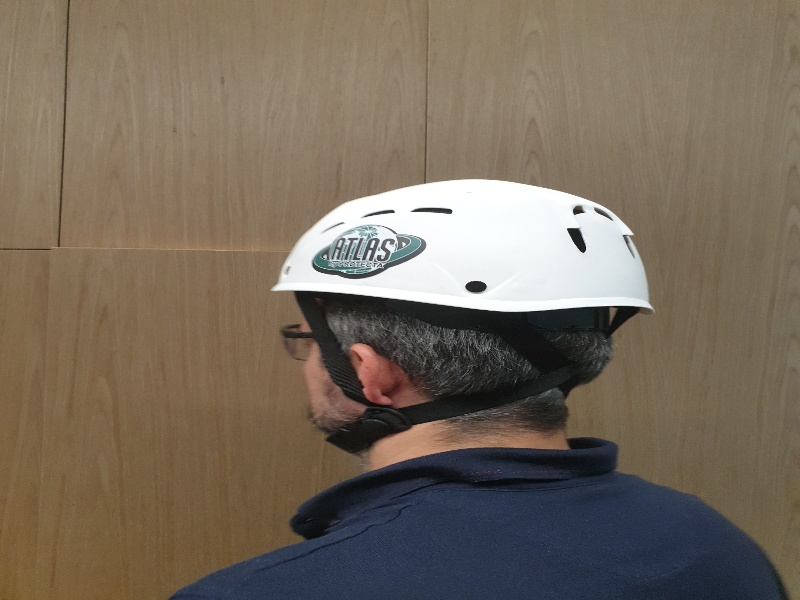Baret: (286, 185, 664, 316)
Gozluk: (279, 313, 318, 363)
